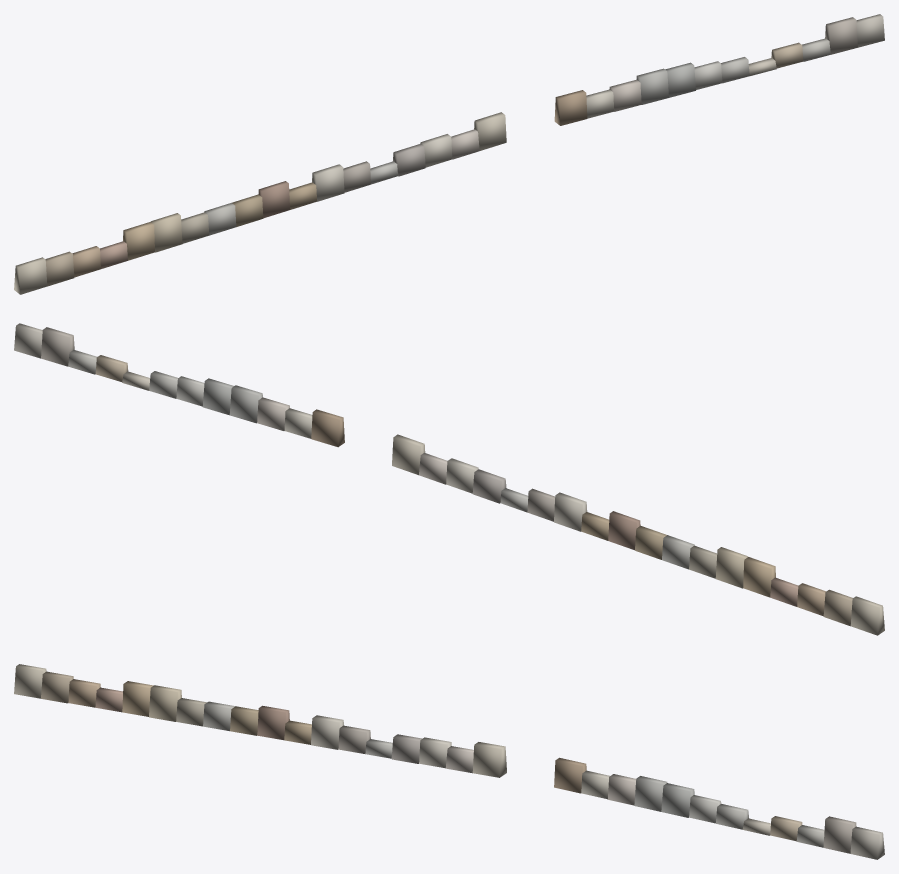
The model's file is farm_16_7_collision.glb.
3 renders of one model, top to bottom at view 1: azimuth 30°, elevation 25°; view 2: azimuth 150°, elevation 25°; view 3: azimuth 330°, elevation 25°, orthographic. The views are drawn at different scales.
Visible parts, largest first — view 1: geometry_0; view 2: geometry_0; view 3: geometry_0.
Part boxes in pixels (x1=…): geometry_0: x1=14, y1=14, x2=884, y2=294; geometry_0: x1=14, y1=323, x2=884, y2=635; geometry_0: x1=14, y1=664, x2=884, y2=859.
Size of the model in its own units: 50.1 by 4.7 by 2.19.
